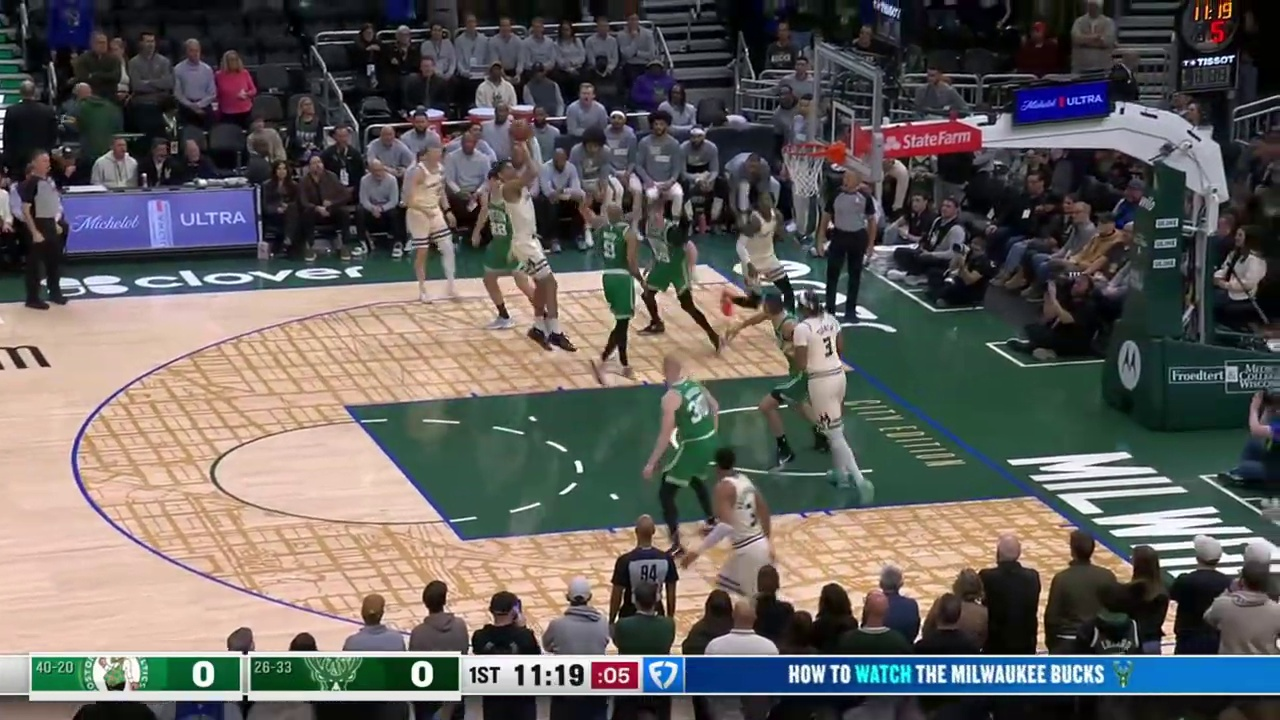21_OusmaneDieng: (497, 146, 557, 291)
30_SamHauser: (649, 345, 721, 506)
34_GiannisAntetokounmpo: (708, 442, 765, 584)
3_MylesTurner: (790, 285, 864, 439)
55_BaylorScheierman: (641, 193, 708, 296)
9_DerrickWhite: (586, 201, 648, 382)
